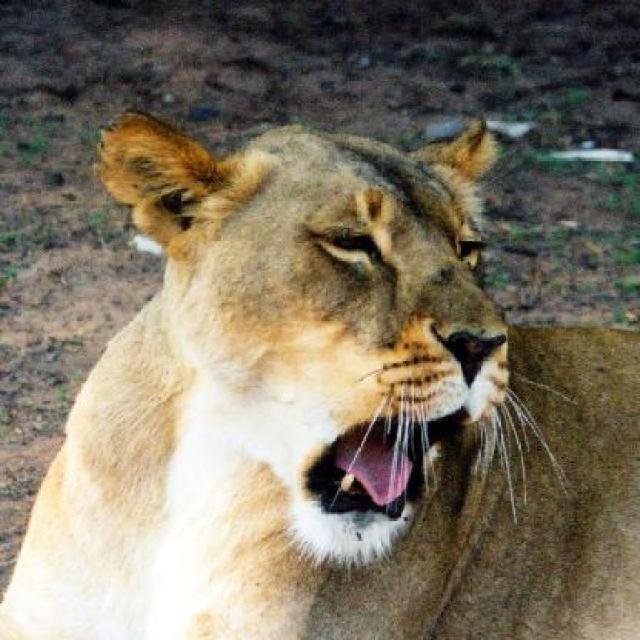Lion: (1, 83, 637, 639)
